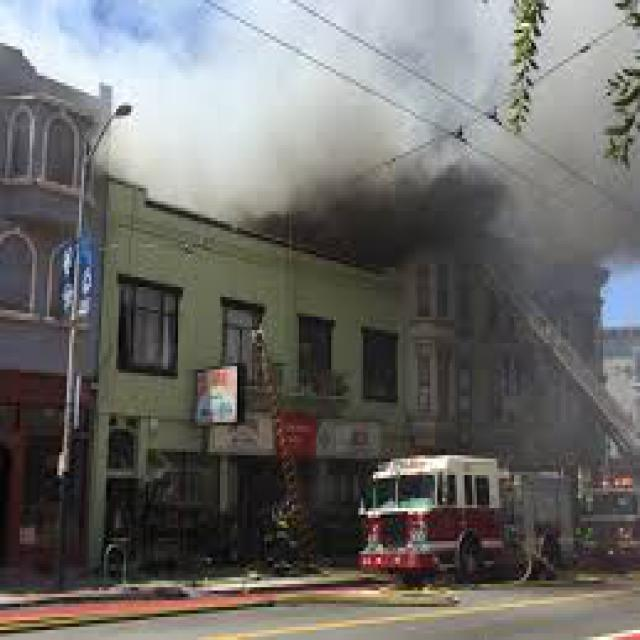Smoke: (235, 89, 529, 271)
